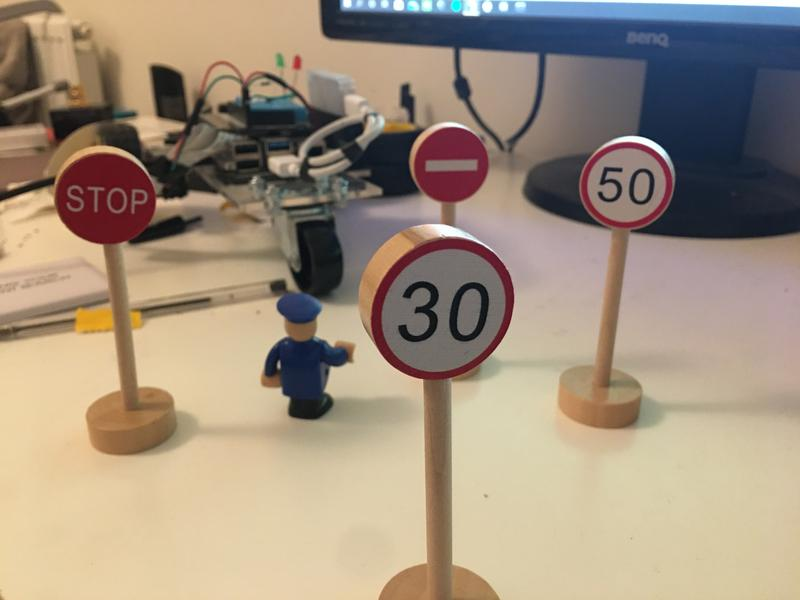Traffic_Sign_30: (372, 237, 510, 379)
Traffic_Sign_50: (579, 142, 672, 229)
Traffic_Sign_No_Entry: (411, 126, 487, 200)
Traffic_Sign_Stop: (55, 152, 156, 245)
person: (259, 290, 358, 420)
